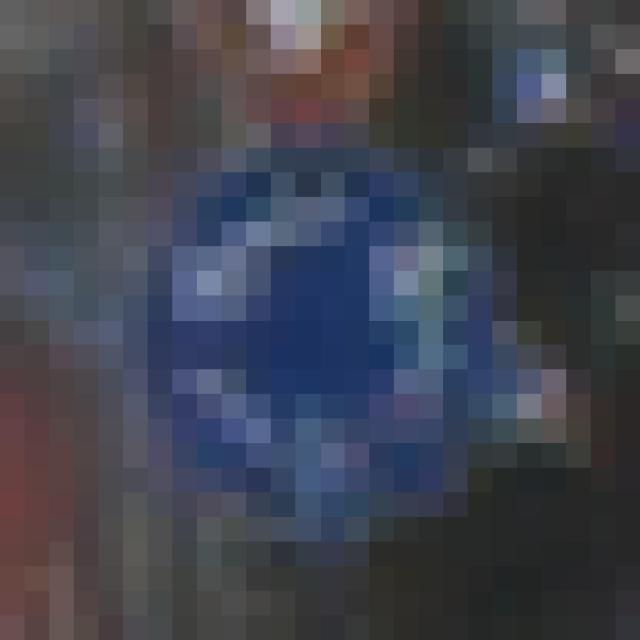Round-About: (99, 148, 542, 542)
